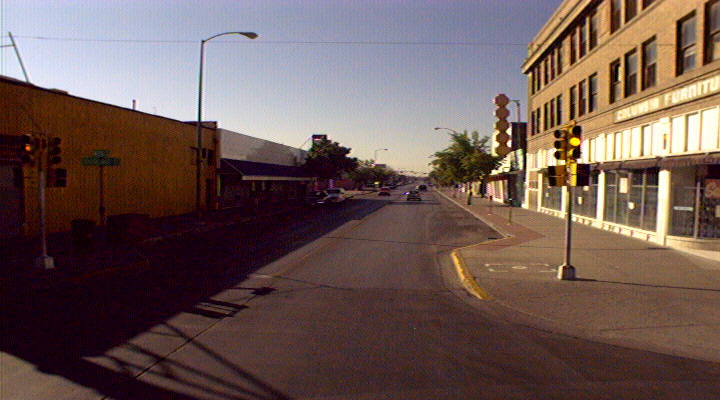Ramp: (455, 274, 720, 370)
